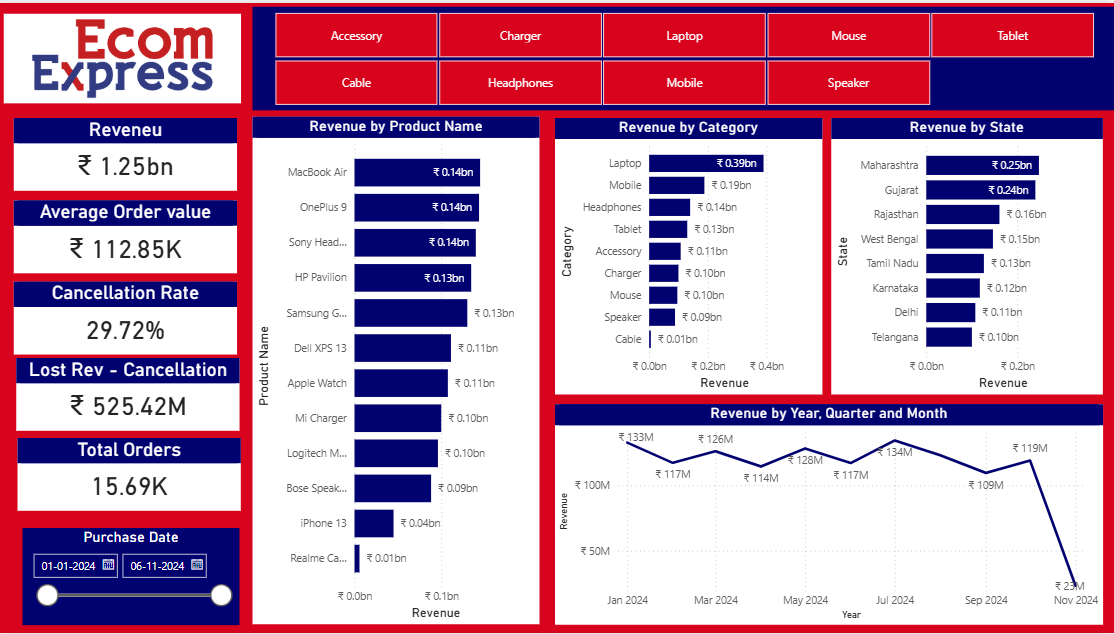

What the dashboard file says about the page in this screenshot:
{"tool":"powerbi","page":{"name":"Page 1","canvas":[1280,720],"ordinal":0},"visuals":[{"type":"shape","box":[9.6,0,1270.7,130.4],"z":0},{"type":"shape","box":[9.8,123.5,284.9,596.7],"z":1000},{"type":"barChart","fields":{"Y":["Table.Revenue"],"Category":["Product.Product Name"]},"box":[294.4,130.3,328.2,580.3],"z":2000},{"type":"barChart","fields":{"Y":["Table.Revenue"],"Category":["Product.Category"]},"box":[639.4,131.5,305.2,316.1],"z":3000},{"type":"lineChart","fields":{"Category":["Order.Date and time of purchase.Variation.Date Hierarchy.Year","Order.Date and time of purchase.Variation.Date Hierarchy.Quarter","Order.Date and time of purchase.Variation.Date Hierarchy.Month","Order.Date and time of purchase.Variation.Date Hierarchy.Day"],"Y":["Table.Revenue"]},"box":[639.4,458.4,626.1,252.1],"z":4000},{"type":"barChart","fields":{"Category":["Custumer.State"],"Y":["Table.Revenue"]},"box":[955.5,131.5,310.1,316.1],"z":5000},{"type":"slicer","fields":{"Values":["Product.Category"]},"box":[294.7,4.9,985.6,118.6],"z":6000},{"type":"card","title":"Reveneu","fields":{"Values":["Table.Revenue"]},"box":[20.8,132.1,255.6,83.2],"z":7000},{"type":"card","title":"Average Order value","fields":{"Values":["Table.AOV"]},"box":[22,226.2,255.6,83.2],"z":8000},{"type":"card","title":"Cancellation Rate","fields":{"Values":["Table.Cancellation Rate"]},"box":[20.8,317.9,255.6,83.2],"z":9000},{"type":"card","title":"Lost Rev - Cancellation","fields":{"Values":["Table.lost_rev_cancelaation"]},"box":[24.5,406,255.6,83.2],"z":10000},{"type":"card","title":"Total Orders","fields":{"Values":["CountNonNull(Order.OrderID)"]},"box":[25.7,497.7,255.6,83.2],"z":11000},{"type":"slicer","title":"Purchase Date","fields":{"Values":["Order.Date and time of purchase"]},"box":[31.8,600.4,248.2,110.1],"z":12000},{"type":"image","box":[9.7,4.8,271.4,118.2],"z":12001}]}

Visuals, with their boxes in screenshot pixels (x1, y1, x2, y2), scaled from the page's 1280x720 canvas onto the 1114x634 screenshot:
shape: box(8, 0, 1113, 115)
shape: box(9, 109, 256, 633)
barChart - Table.Revenue x Product.Product Name: box(256, 115, 542, 626)
barChart - Table.Revenue x Product.Category: box(556, 116, 822, 394)
lineChart - Order.Date and time of purchase.Variation.Date Hierarchy.Year x Order.Date and time of purchase.Variation.Date Hierarchy.Quarter: box(556, 404, 1101, 626)
barChart - Custumer.State x Table.Revenue: box(832, 116, 1101, 394)
slicer - Product.Category: box(256, 4, 1113, 109)
"Reveneu" card: box(18, 116, 241, 190)
"Average Order value" card: box(19, 199, 242, 272)
"Cancellation Rate" card: box(18, 280, 241, 353)
"Lost Rev - Cancellation" card: box(21, 358, 244, 431)
"Total Orders" card: box(22, 438, 245, 512)
"Purchase Date" slicer: box(28, 529, 244, 626)
image: box(8, 4, 245, 108)
